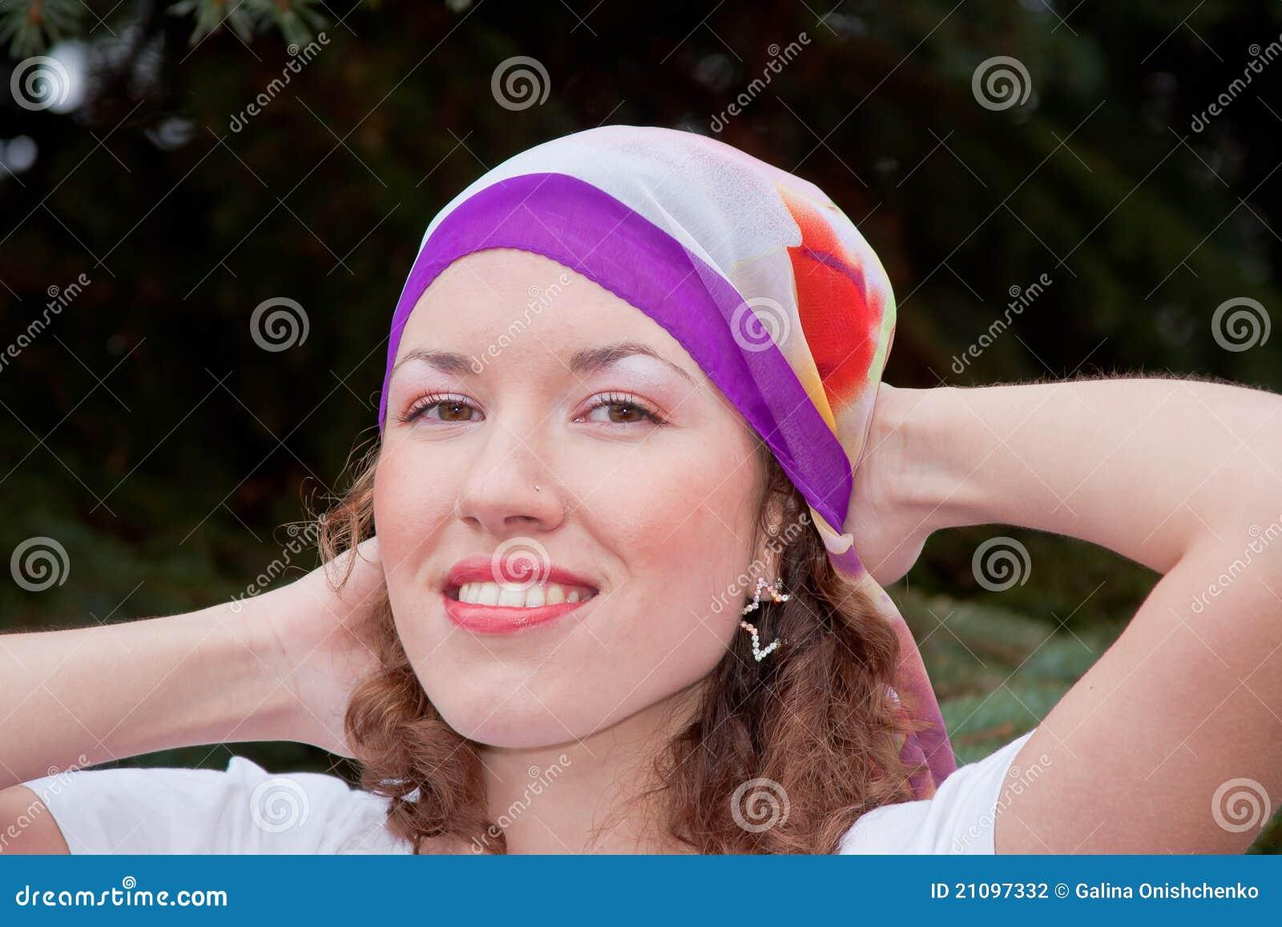cap: (366, 96, 921, 547)
